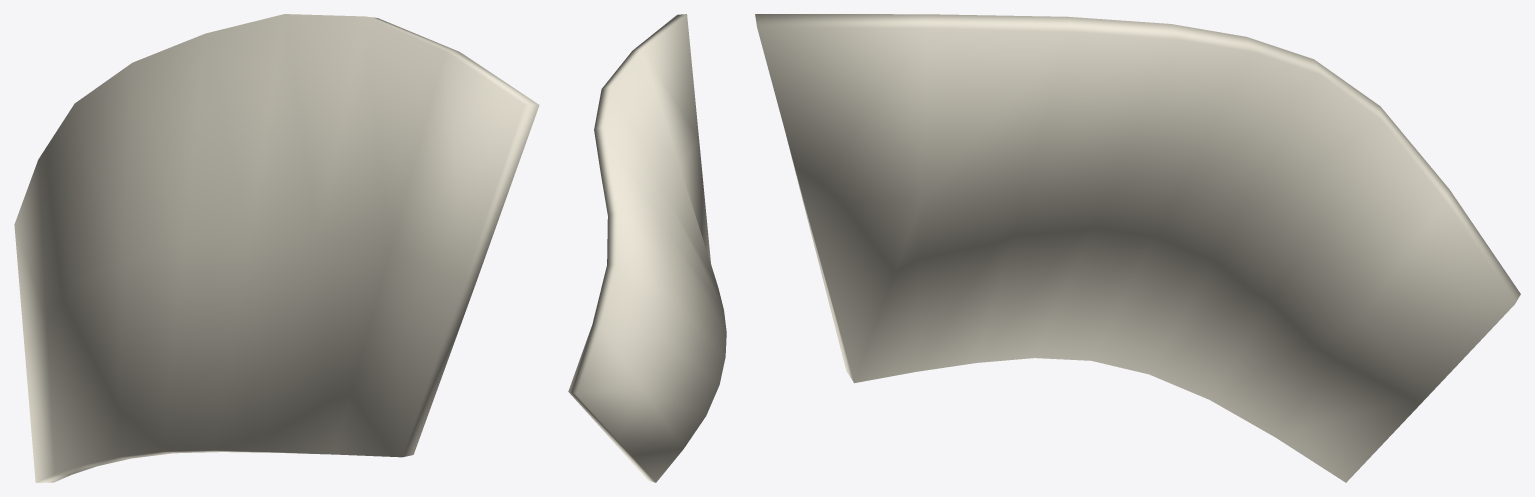
The picture shows the model from 3 angles, left to right: view 1: azimuth 30°, elevation 25°; view 2: azimuth 150°, elevation 25°; view 3: azimuth 270°, elevation 25°; orthographic projection. The views are drawn at different scales.
Visible parts, largest first — view 1: ZA_8bbdd9571d328e00; view 2: ZA_8bbdd9571d328e00; view 3: ZA_8bbdd9571d328e00.
Part boxes in pixels (bbox=[...]): ZA_8bbdd9571d328e00: bbox=[14, 14, 539, 482]; ZA_8bbdd9571d328e00: bbox=[568, 14, 726, 482]; ZA_8bbdd9571d328e00: bbox=[755, 14, 1520, 482].
Bounding box in the file's own units: 0.00776 × 0.0153 × 0.0184.
